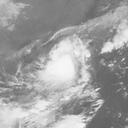cyclone: (36, 40, 82, 91)
